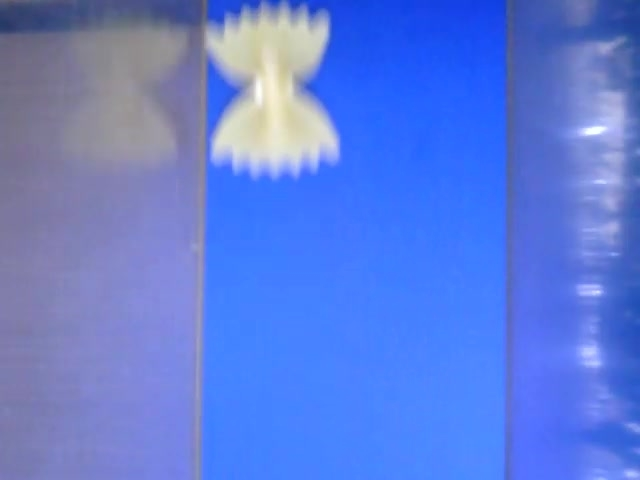farfalle: (201, 1, 341, 179)
